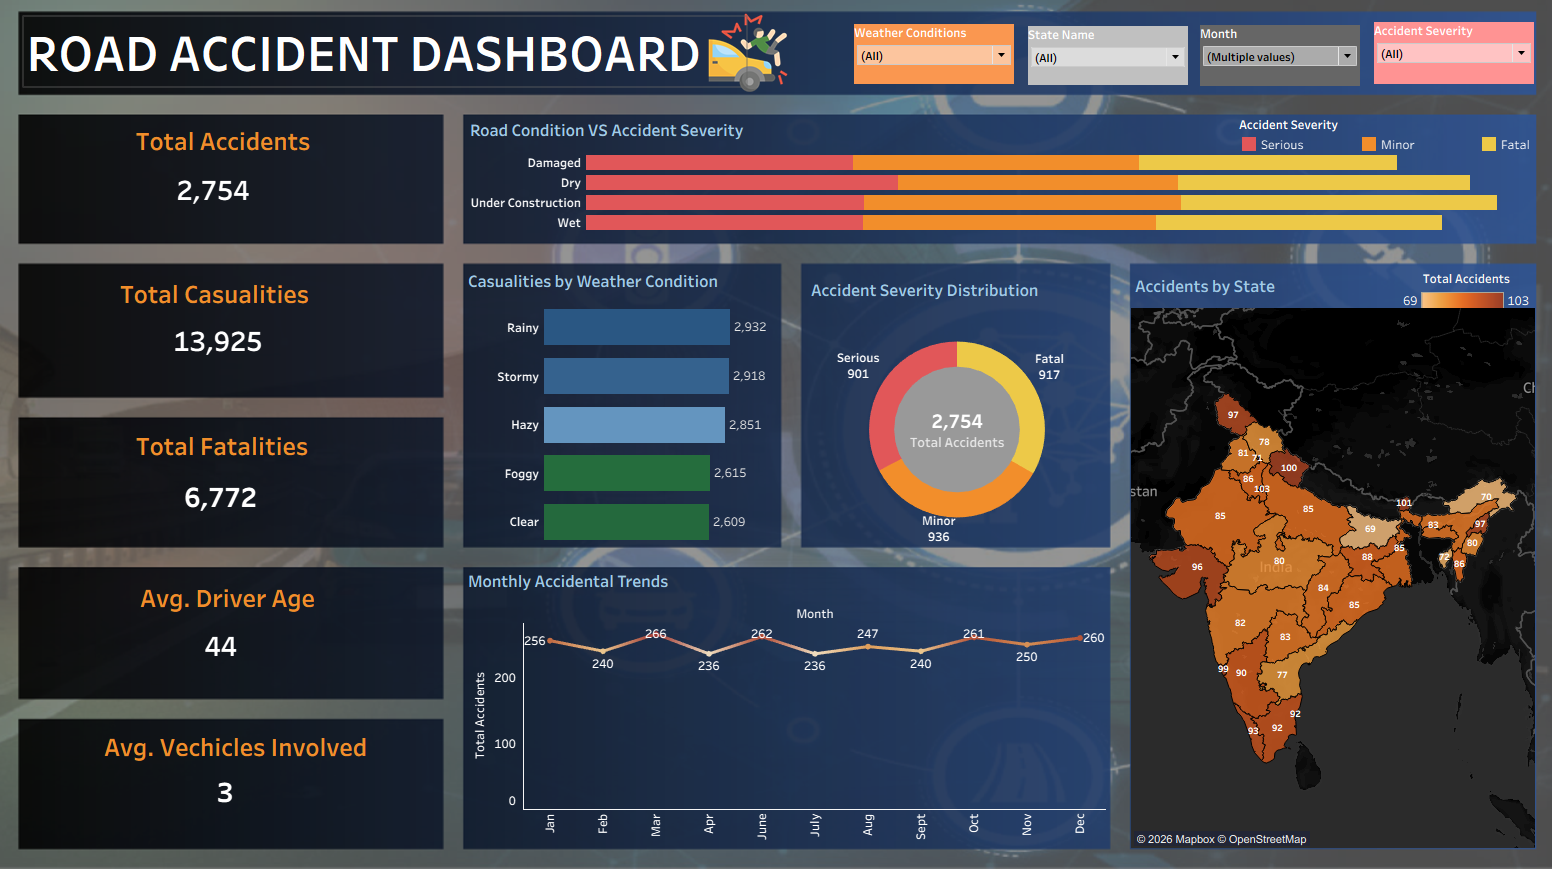

This screenshot's page, from the dashboard's own definition file:
{"tool":"tableau","page":{"name":"Dashboard 1","canvas":[1600,900],"ordinal":0},"visuals":[{"type":"image","param":"C:/Users/BIT/Downloads/Background.pptx.png","box":[8,8,1584,884]},{"type":"image","param":"C:/Users/BIT/Downloads/accident.png","box":[728,31,136,82]},{"type":"text","box":[45,36,722,69]},{"type":"filter","title":"Casualities by Weather Condition","param":"[federated.0qp9hb70p7f8it15hjy8f01aqmoe].[none:Accident Severity:nk]","box":[1395,41,160,62]},{"type":"filter","title":"Casualities by Weather Condition","param":"[federated.0qp9hb70p7f8it15hjy8f01aqmoe].[none:Weather Conditions:nk]","box":[875,43,160,60]},{"type":"filter","title":"Casualities by Weather Condition","param":"[federated.0qp9hb70p7f8it15hjy8f01aqmoe].[none:Month:nk]","box":[1221,44,160,61]},{"type":"filter","title":"Casualities by Weather Condition","param":"[federated.0qp9hb70p7f8it15hjy8f01aqmoe].[none:State Name:nk]","box":[1049,45,160,59]},{"type":"worksheet","title":"Road Condition VS Accident Severity","mark":"Automatic","rows":["Road Condition"],"cols":["Calculation_1967030456811521"],"box":[487,134,1078,127]},{"type":"text","box":[154,143,180,33]},{"type":"worksheet","title":"Total Accidents","mark":"Automatic","box":[184,157,124,105]},{"type":"worksheet","title":"Casualities by Weather Condition","mark":"Automatic","rows":["Weather Conditions"],"cols":["Number of Casualties"],"box":[485,285,316,280]},{"type":"legend","title":"Accidents by State","param":"[federated.0qp9hb70p7f8it15hjy8f01aqmoe].[usr:Calculation_1967030456811521:qk]","box":[1420,289,135,38]},{"type":"worksheet","title":"Accidents by State","mark":"Automatic","box":[1152,290,404,577]},{"type":"worksheet","title":"Total Casualities","mark":"Automatic","box":[88,292,199,136]},{"type":"worksheet","title":"Accident Severity Distribution","mark":"Pie","rows":["Calculation_1967030481354756","Calculation_1967030481354756"],"box":[828,294,300,272]},{"type":"text","box":[138,296,195,33]},{"type":"text","box":[154,448,178,33]},{"type":"worksheet","title":"Total Fatalities","mark":"Automatic","box":[194,466,88,100]},{"type":"worksheet","title":"Monthly Accidental Trends","mark":"Line","rows":["Calculation_1967030456811521"],"cols":["Month"],"box":[485,585,642,283]},{"type":"text","box":[158,600,181,33]},{"type":"worksheet","title":"Avg Driver Age","mark":"Automatic","box":[210,635,52,60]},{"type":"text","box":[122,749,269,33]},{"type":"worksheet","title":"Avg Vehicle Involved","mark":"Automatic","box":[217,769,41,84]}]}

Visuals, with their boxes in screenshot pixels (x1, y1, x2, y2), scaled from the page's 1600x900 canvas onto the 1552x869 screenshot:
image: <bbox>8, 8, 1544, 861</bbox>
image: <bbox>706, 30, 838, 109</bbox>
text: <bbox>44, 35, 744, 101</bbox>
"Casualities by Weather Condition" filter: <bbox>1353, 40, 1508, 99</bbox>
"Casualities by Weather Condition" filter: <bbox>849, 42, 1004, 99</bbox>
"Casualities by Weather Condition" filter: <bbox>1184, 42, 1340, 101</bbox>
"Casualities by Weather Condition" filter: <bbox>1018, 43, 1173, 100</bbox>
"Road Condition VS Accident Severity" worksheet: <bbox>472, 129, 1518, 252</bbox>
text: <bbox>149, 138, 324, 170</bbox>
"Total Accidents" worksheet: <bbox>178, 152, 299, 253</bbox>
"Casualities by Weather Condition" worksheet: <bbox>470, 275, 777, 546</bbox>
"Accidents by State" legend: <bbox>1377, 279, 1508, 316</bbox>
"Accidents by State" worksheet: <bbox>1117, 280, 1509, 837</bbox>
"Total Casualities" worksheet: <bbox>85, 282, 278, 413</bbox>
"Accident Severity Distribution" worksheet (Pie marks): <bbox>803, 284, 1094, 547</bbox>
text: <bbox>134, 286, 323, 318</bbox>
text: <bbox>149, 433, 322, 464</bbox>
"Total Fatalities" worksheet: <bbox>188, 450, 274, 547</bbox>
"Monthly Accidental Trends" worksheet (Line marks): <bbox>470, 565, 1093, 838</bbox>
text: <bbox>153, 579, 329, 611</bbox>
"Avg Driver Age" worksheet: <bbox>204, 613, 254, 671</bbox>
text: <bbox>118, 723, 379, 755</bbox>
"Avg Vehicle Involved" worksheet: <bbox>210, 743, 250, 824</bbox>
